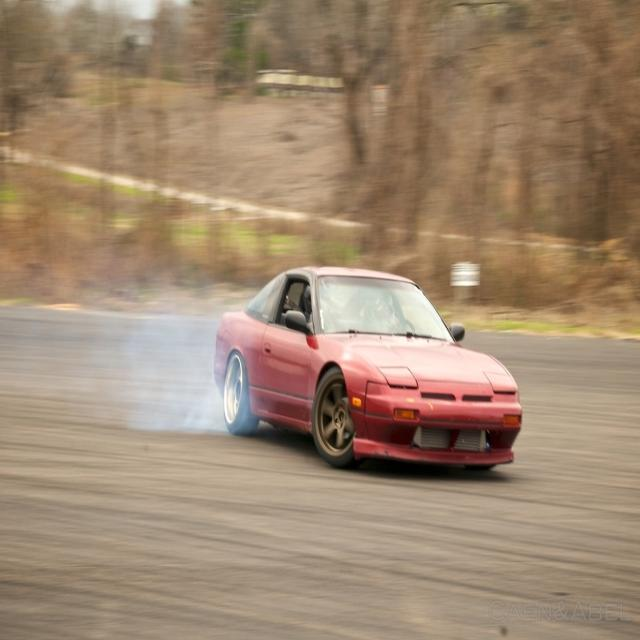car: (212, 263, 523, 469)
